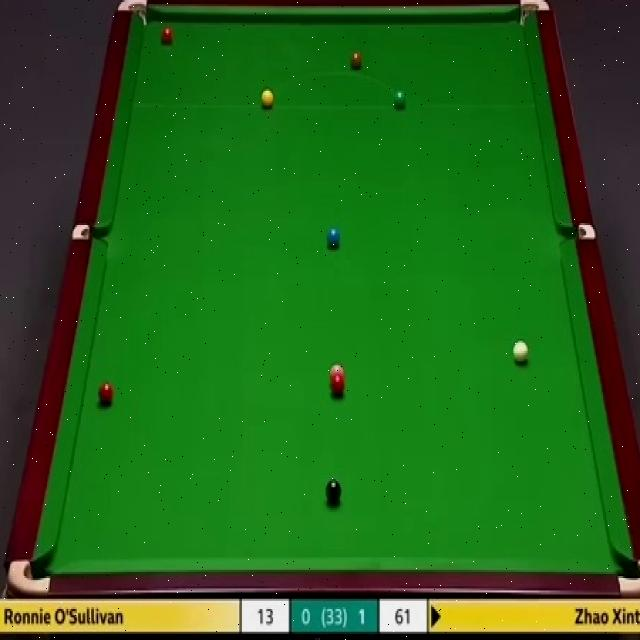black-ball: (325, 478, 342, 506)
blue-ball: (326, 227, 340, 248)
brown-ball: (350, 50, 362, 71)
green-ball: (393, 88, 406, 109)
pink-ball: (329, 363, 345, 378)
red-ball: (98, 379, 115, 407), (329, 375, 346, 396), (160, 24, 174, 48)
white-ball: (512, 338, 528, 364)
yellow-ball: (261, 89, 274, 109)
